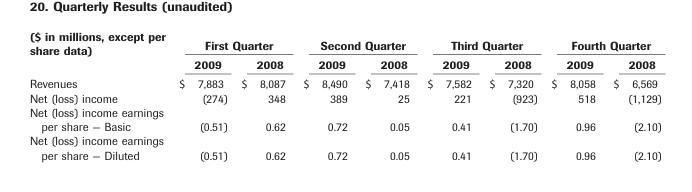table: (28, 28, 660, 161)
table column: (28, 28, 171, 161), (479, 28, 543, 161), (171, 28, 233, 161), (293, 28, 355, 161), (355, 28, 417, 161), (417, 28, 479, 161), (233, 28, 293, 161), (543, 28, 603, 161), (603, 28, 660, 161)
table column header: (28, 28, 660, 73)
table row: (28, 104, 660, 133), (28, 133, 660, 161), (28, 28, 660, 54), (28, 54, 660, 73), (28, 73, 660, 90), (28, 90, 660, 104)
table spanning cell: (28, 28, 171, 73), (417, 28, 543, 54), (293, 28, 417, 54), (171, 28, 293, 54), (543, 28, 660, 54)
